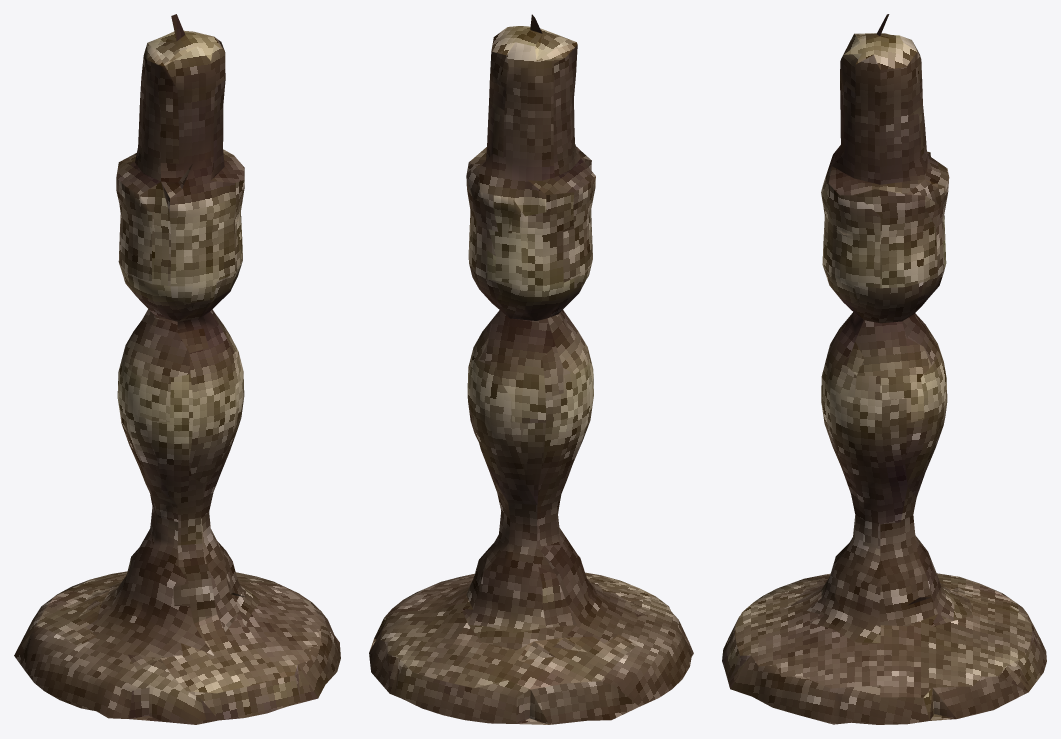
Rendered from candlestick.glb.
3 renders of one model, left to right at view 1: azimuth 30°, elevation 25°; view 2: azimuth 150°, elevation 25°; view 3: azimuth 270°, elevation 25°, orthographic.
Parts seen in each view (by area): view 1: body; view 2: body; view 3: body.
Part boxes in pixels (x1,y1,x2,y2): body: [14, 14, 340, 724]; body: [369, 14, 693, 724]; body: [722, 14, 1046, 724].
Bounding box in the file's own units: 0.0989 × 0.2197 × 0.1004.
Materials: 1 (1 with a texture image).
